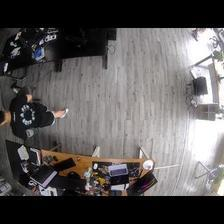normal: (2, 92, 67, 137)
